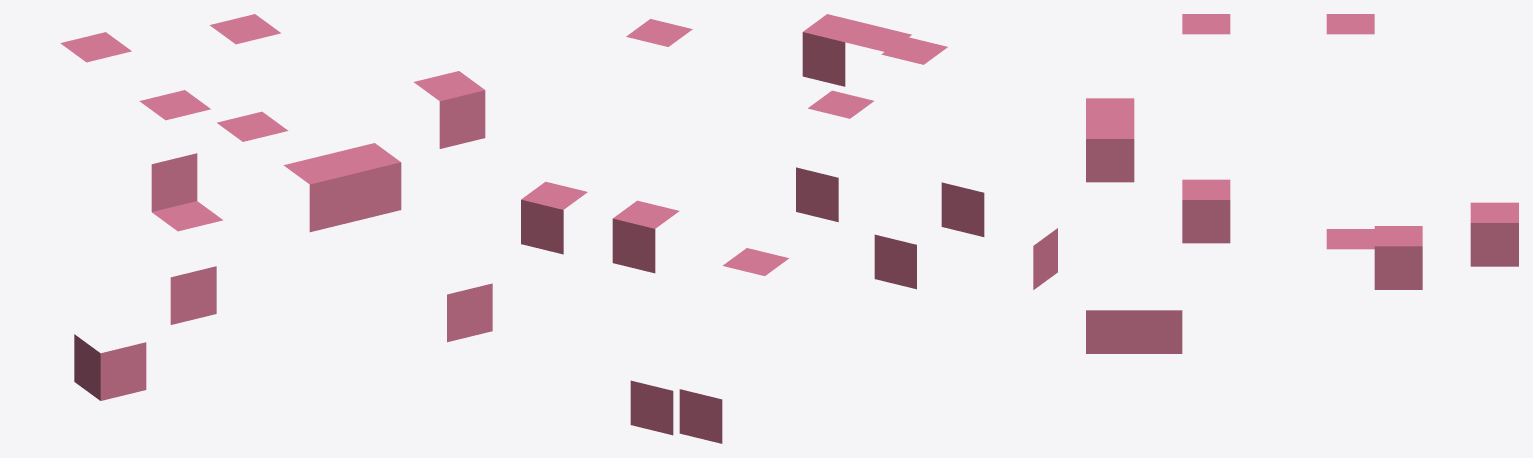
The model's file is tree-cherry-0p9-white-e77fa0.gltf.
3 views of the same model, side by side, from view 1: azimuth 30°, elevation 25°; view 2: azimuth 150°, elevation 25°; view 3: azimuth 270°, elevation 25° (orthographic). The views are drawn at different scales.
Visible parts, largest first — view 1: tree-cherry-0p9-white-e77fa0; view 2: tree-cherry-0p9-white-e77fa0; view 3: tree-cherry-0p9-white-e77fa0.
Part boxes in pixels (left/top/right/bottom): tree-cherry-0p9-white-e77fa0: left=60, top=14, right=492, bottom=400; tree-cherry-0p9-white-e77fa0: left=521, top=14, right=1057, bottom=443; tree-cherry-0p9-white-e77fa0: left=1086, top=14, right=1518, bottom=353.
Bounding box in the file's own units: 9 × 8 × 9.
